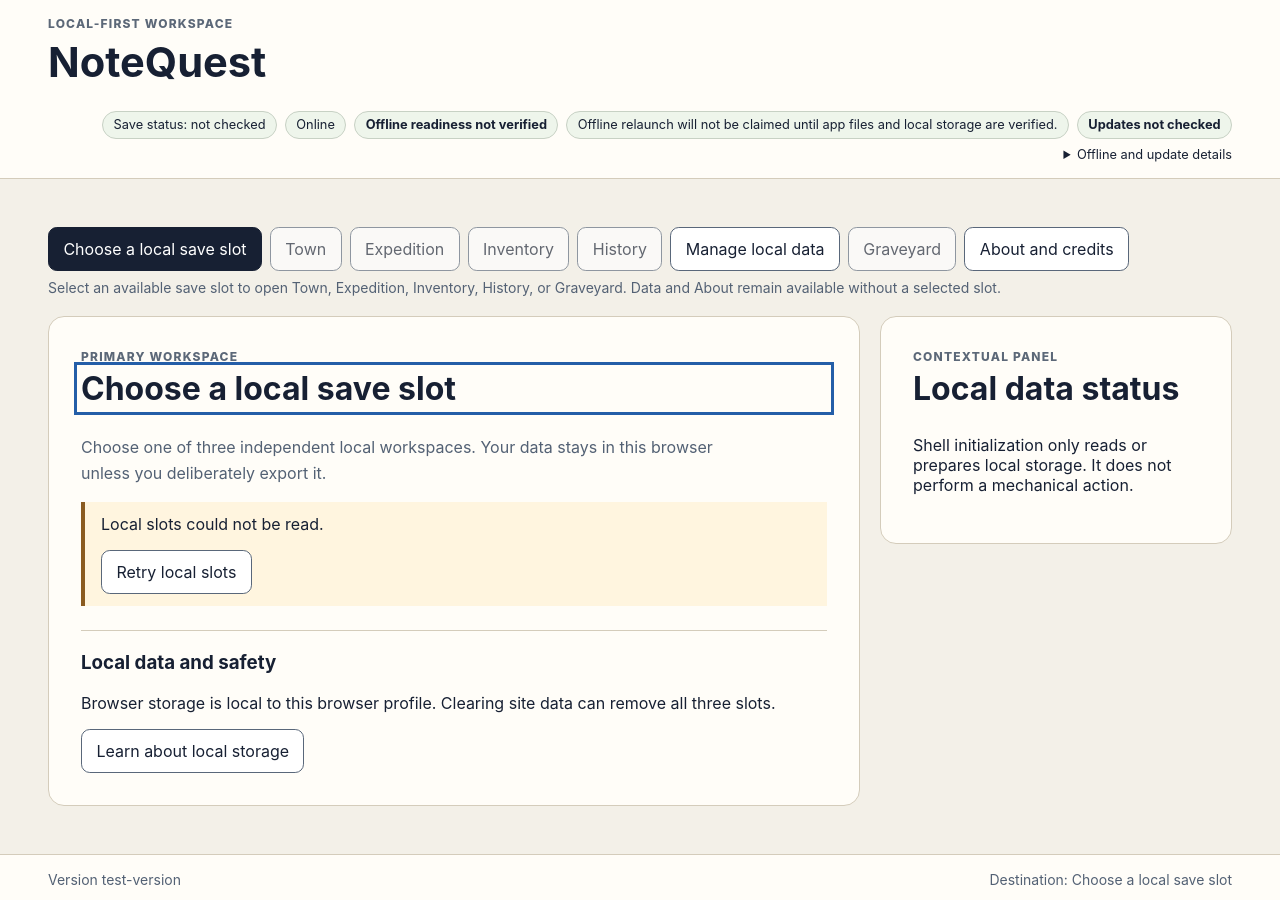
App shell › recovers when the slot query rejects
Expected: the message shows "Local slots could not be read", [101, 514, 324, 534]
What coordinates should you click on to do the following:
click the button "Retry local slots"
I would click on:
 (176, 572)
Its box is [101, 550, 252, 594].
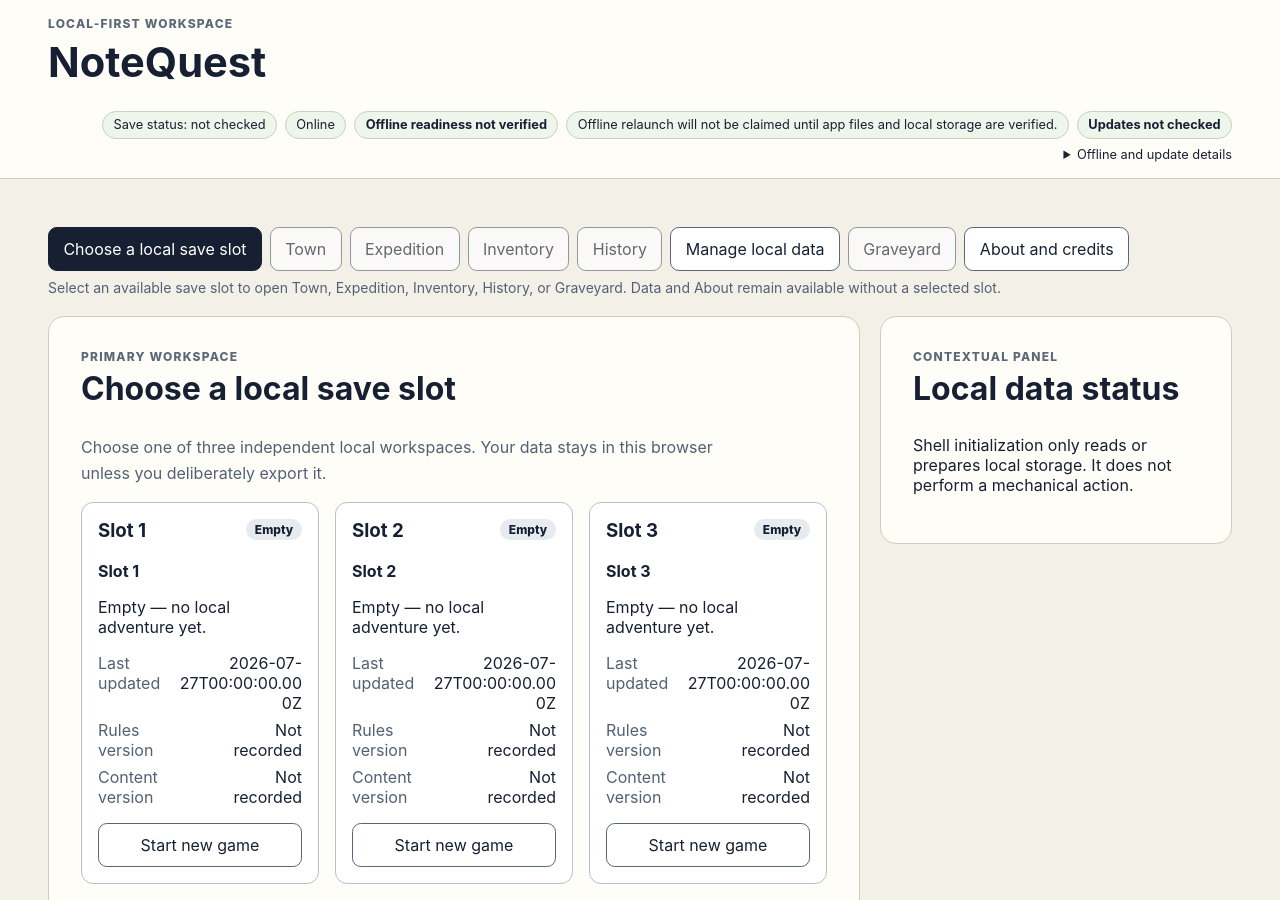
Expected: the heading "Slot 1" is shown, [98, 519, 146, 542]
